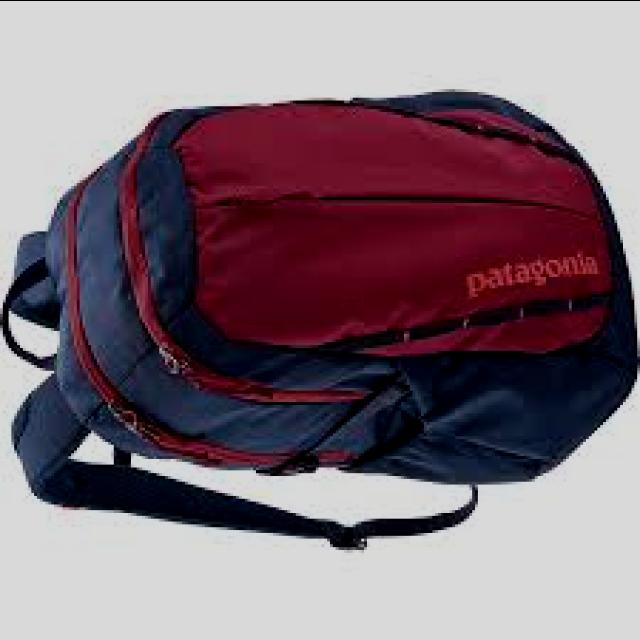backpack: (1, 92, 638, 553)
